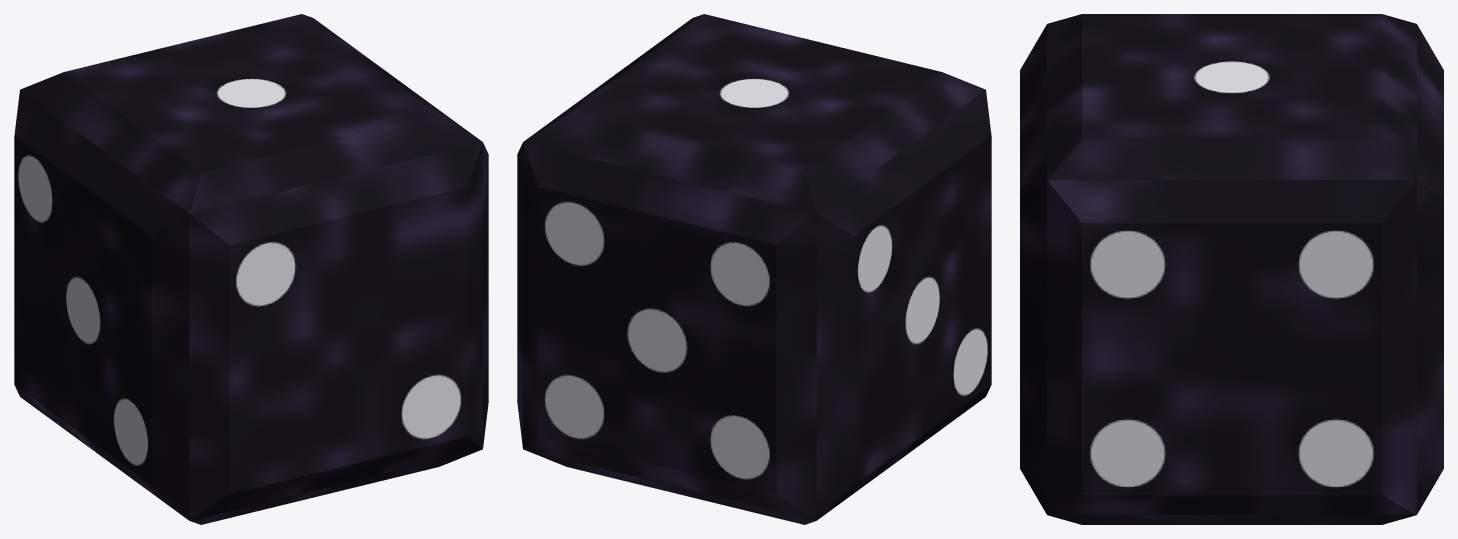
File: Die_Odd.fbx
The picture shows the model from 3 angles, left to right: view 1: azimuth 30°, elevation 25°; view 2: azimuth 150°, elevation 25°; view 3: azimuth 270°, elevation 25°; orthographic projection. The views are drawn at different scales.
Parts seen in each view (by area): view 1: Die_Odd; view 2: Die_Odd; view 3: Die_Odd.
Part boxes in pixels (x1,y1,x2,y2): Die_Odd: (14, 14, 488, 524); Die_Odd: (517, 14, 991, 524); Die_Odd: (1020, 14, 1443, 524).
Size of the model in its own units: 0.3 by 0.3 by 0.3.
Materials: 1 (1 with a texture image).
